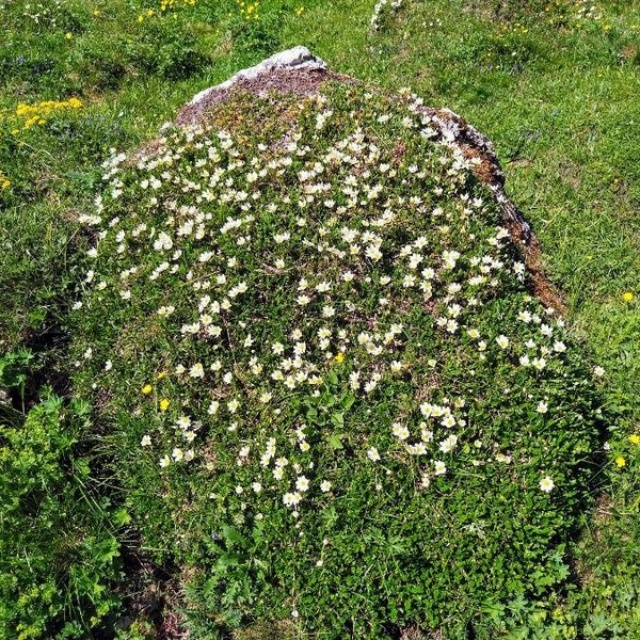obstacle: (50, 102, 575, 529)
